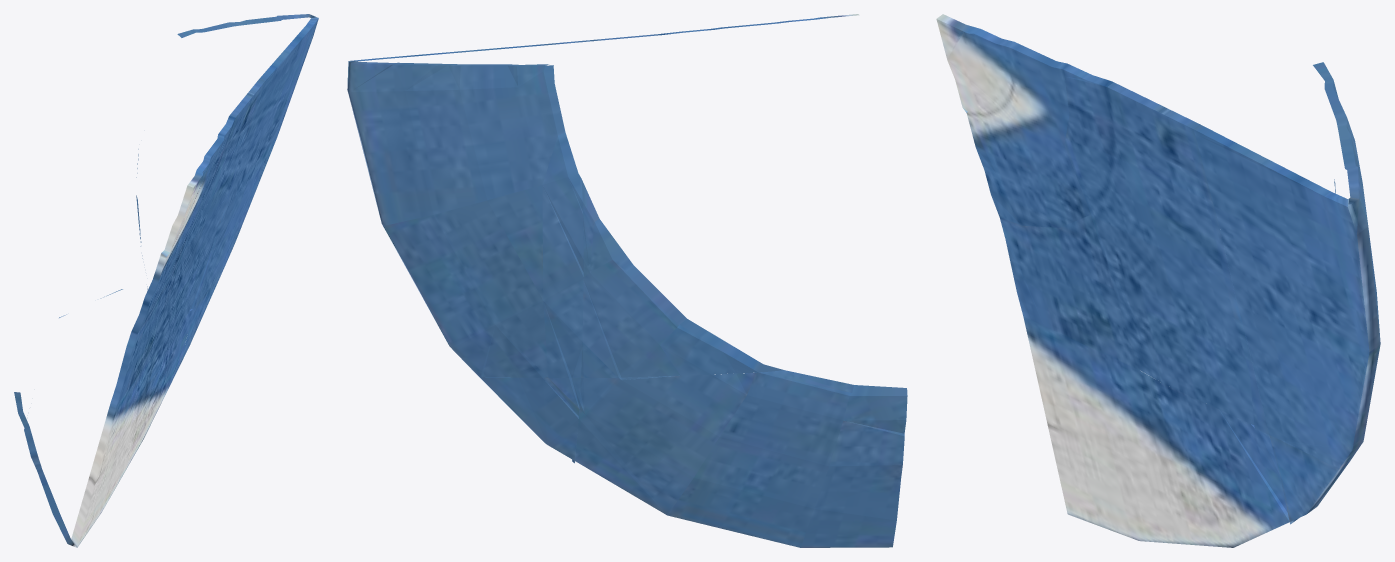
File: congresso_tile_49.glb
The picture shows the model from 3 angles, left to right: view 1: azimuth 30°, elevation 25°; view 2: azimuth 150°, elevation 25°; view 3: azimuth 270°, elevation 25°; orthographic projection. The views are drawn at different scales.
Size of the model in its own units: 31.31 by 32.03 by 22.03.
1 material, 1 textured.
